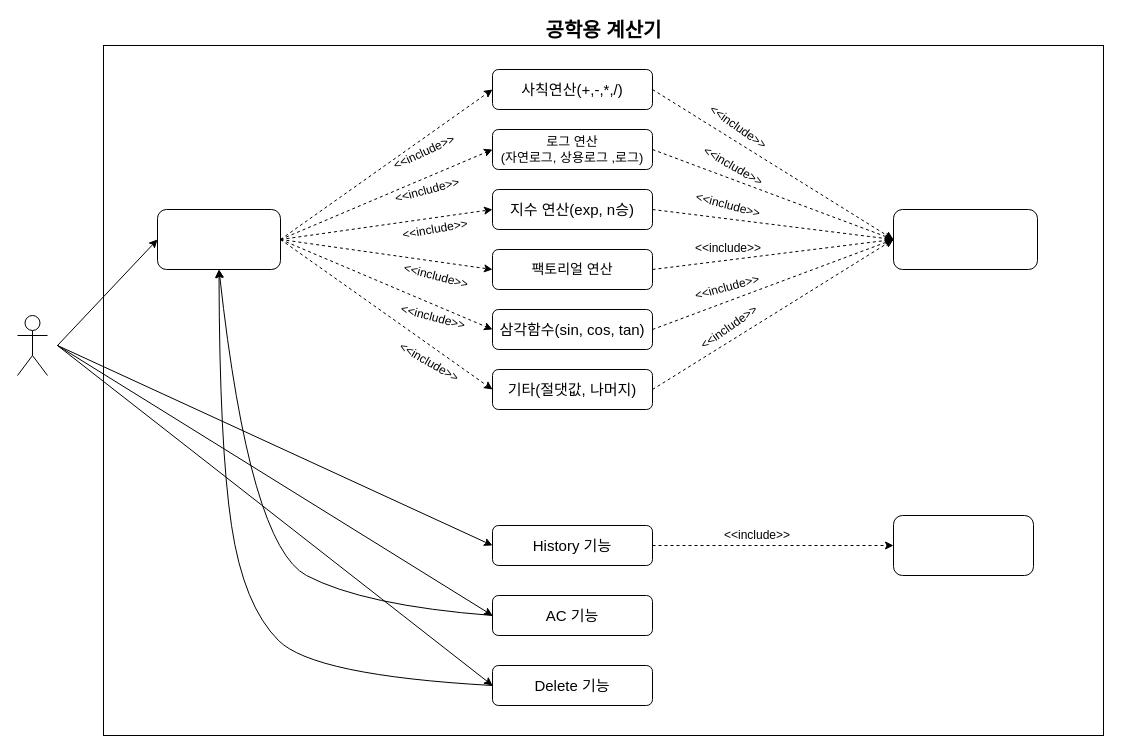
Image size: 1121x753. Some labels were removed from this diagram. The centre of each missing label's shape, as x and y in pixels:
"User" belongs at point 32,345.
"숫자 입력" belongs at point 218,239.
"연산 결과 출력" belongs at point 965,239.
"연산 내역 출력" belongs at point 963,545.
